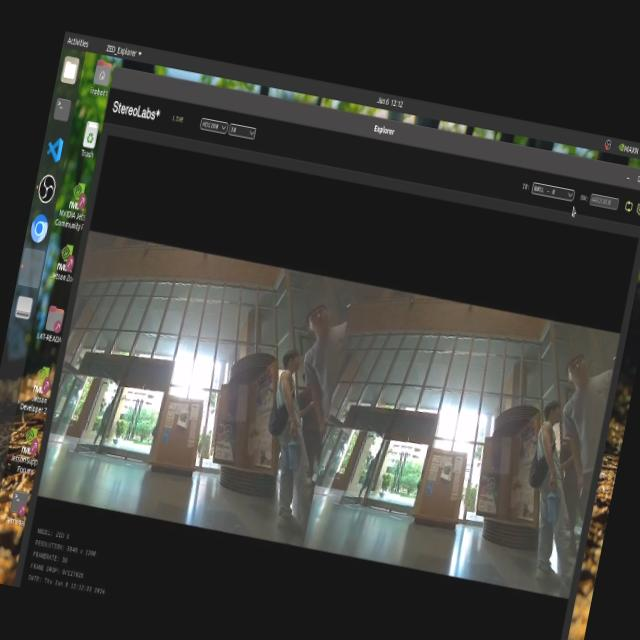green: (175, 400, 195, 430), (440, 467, 452, 484)
